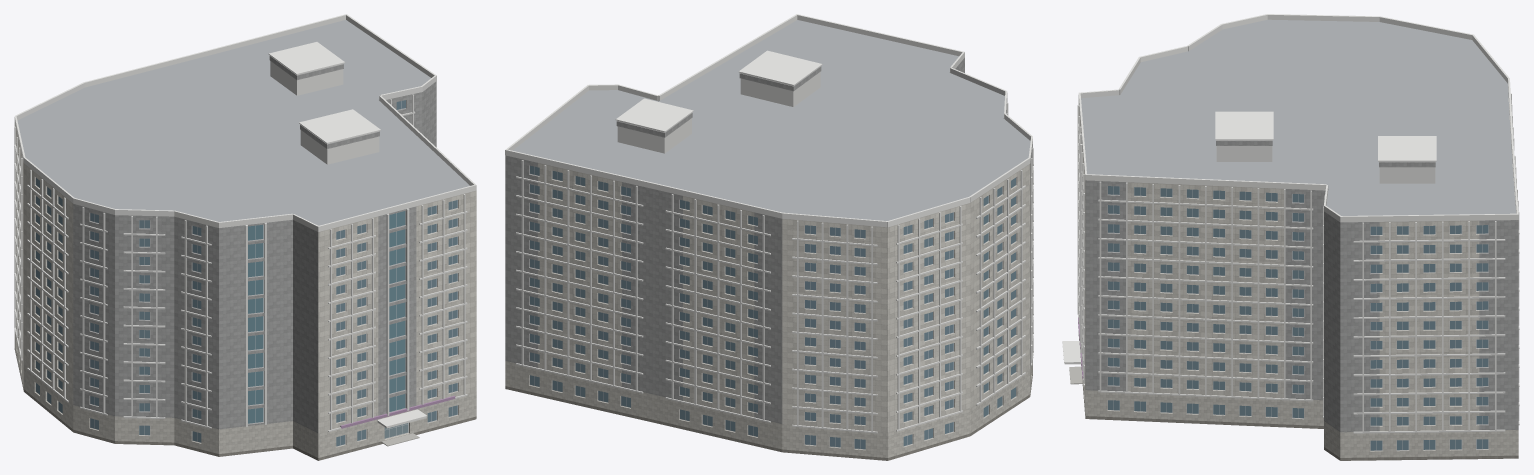
3 views of the same model, side by side, from view 1: azimuth 30°, elevation 25°; view 2: azimuth 150°, elevation 25°; view 3: azimuth 270°, elevation 25° (orthographic). The views are drawn at different scales.
Visible parts, largest first — view 1: dorm__roof, dorm__brick, dorm__panelwall, dorm__fin, dorm__cap, dorm__stone, dorm__glass, dorm__trim, dorm__curtainglass, dorm__frame, dorm__core, dorm__plinth (+1 smaller); view 2: dorm__panelwall, dorm__roof, dorm__brick, dorm__glass, dorm__fin, dorm__trim, dorm__stone, dorm__cap, dorm__frame, dorm__core, dorm__plinth, dorm__foundation; view 3: dorm__roof, dorm__panelwall, dorm__brick, dorm__glass, dorm__trim, dorm__cap, dorm__stone, dorm__fin, dorm__frame, dorm__core, dorm__plinth, dorm__foundation.
Boxes of the visible parts, x1,y1,x2,y2 form: dorm__roof: (17, 20, 469, 225); dorm__brick: (73, 55, 436, 432); dorm__panelwall: (14, 122, 476, 433); dorm__fin: (14, 94, 465, 429); dorm__cap: (14, 14, 476, 427); dorm__stone: (14, 330, 476, 457); dorm__glass: (36, 100, 457, 446); dorm__trim: (14, 111, 467, 431); dorm__curtainglass: (248, 211, 405, 423); dorm__frame: (35, 100, 457, 446); dorm__core: (270, 61, 379, 164); dorm__plinth: (14, 348, 476, 460); dorm__panelwall: (538, 163, 1030, 432); dorm__roof: (513, 20, 1030, 220); dorm__brick: (505, 57, 1032, 423); dorm__glass: (530, 165, 1015, 449); dorm__fin: (521, 102, 1033, 431); dorm__trim: (516, 164, 1033, 433); dorm__stone: (505, 361, 1032, 457); dorm__cap: (505, 14, 1032, 227); dorm__frame: (529, 166, 1016, 449); dorm__core: (617, 72, 820, 153); dorm__plinth: (505, 374, 1032, 460); dorm__foundation: (505, 388, 1029, 460); dorm__roof: (1081, 19, 1515, 215); dorm__panelwall: (1078, 98, 1515, 431); dorm__brick: (1081, 86, 1518, 432); dorm__glass: (1108, 186, 1488, 450); dorm__trim: (1077, 123, 1519, 433); dorm__cap: (1062, 14, 1518, 362); dorm__stone: (1078, 333, 1518, 457); dorm__fin: (1077, 93, 1519, 431); dorm__frame: (1107, 186, 1488, 450); dorm__core: (1216, 140, 1435, 183); dorm__plinth: (1078, 335, 1518, 460); dorm__foundation: (1085, 418, 1518, 460).
Size of the model in its own units: 70.92 by 42.72 by 67.33.
Materials: 18 (6 with a texture image).
